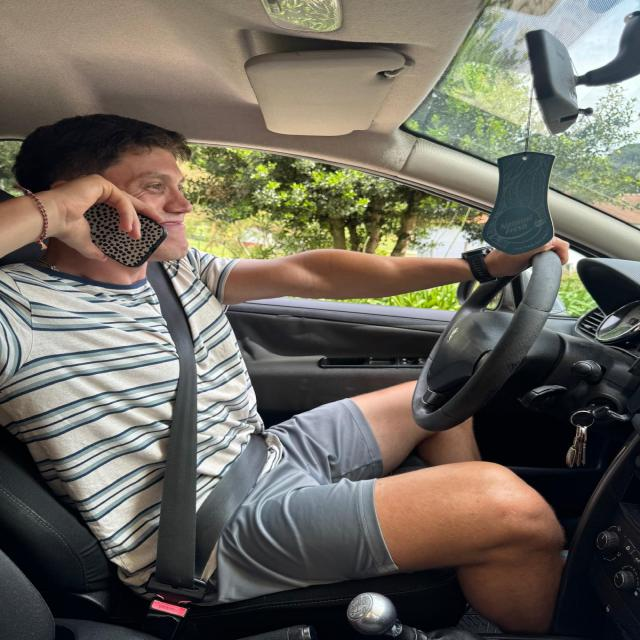Phone: (62, 192, 169, 263)
Seatbelt: (143, 254, 204, 602)
